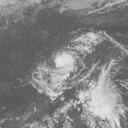cyclone: (31, 29, 127, 100)
